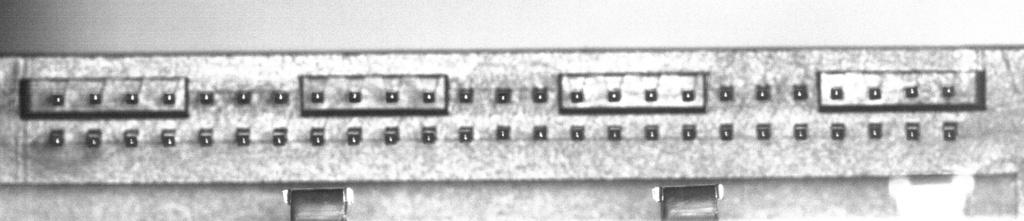pin_ok: (85, 128, 102, 148), (942, 121, 958, 141), (197, 128, 214, 146), (160, 129, 177, 147), (271, 128, 288, 146), (904, 121, 920, 140), (383, 126, 399, 144), (309, 127, 325, 145), (123, 129, 139, 147), (531, 86, 549, 102), (346, 127, 362, 145), (235, 127, 251, 145), (49, 128, 65, 146), (421, 126, 437, 143), (793, 123, 809, 140), (457, 87, 474, 103), (830, 123, 846, 140), (718, 85, 734, 101), (755, 84, 771, 100), (458, 126, 474, 142), (681, 124, 697, 140), (495, 87, 511, 103), (532, 124, 548, 140), (719, 123, 734, 140), (198, 90, 215, 105), (756, 123, 771, 140), (793, 84, 808, 100), (868, 123, 883, 139), (495, 125, 511, 140), (607, 124, 622, 140), (644, 124, 659, 140), (570, 125, 585, 140), (272, 90, 288, 104), (941, 84, 956, 98), (904, 84, 919, 98), (236, 90, 251, 104), (867, 86, 882, 100), (829, 86, 844, 100), (570, 89, 584, 103), (644, 88, 658, 102), (681, 88, 695, 102), (385, 90, 399, 103), (607, 88, 621, 101), (162, 92, 176, 105), (310, 90, 324, 103), (348, 89, 361, 102), (423, 90, 436, 103), (88, 92, 101, 104), (126, 92, 138, 104), (52, 94, 65, 105)
